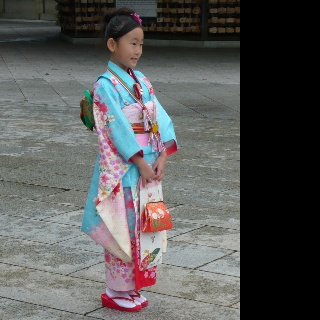without_mask: (114, 27, 143, 66)
